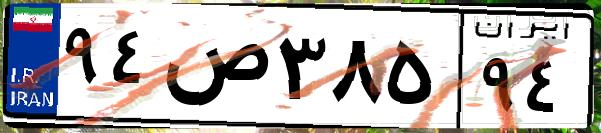3: (270, 28, 330, 110)
4: (525, 38, 570, 115), (110, 28, 158, 98)
5: (385, 28, 445, 110)
8: (330, 28, 385, 110)
9: (57, 26, 110, 100), (475, 38, 525, 113)
ص: (158, 20, 270, 120)
